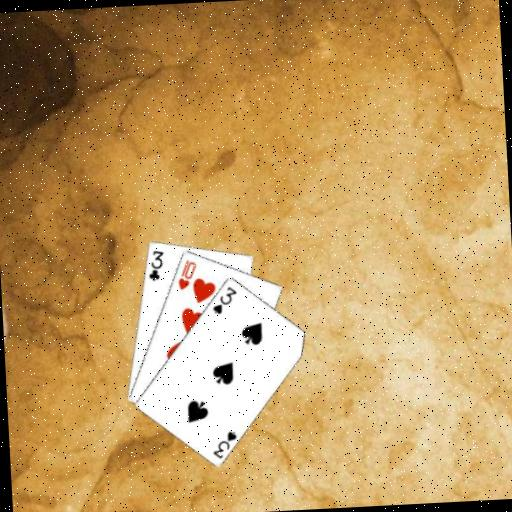10H: (174, 256, 199, 291)
3C: (144, 247, 166, 283)
3S: (208, 283, 239, 316), (209, 427, 240, 460)
